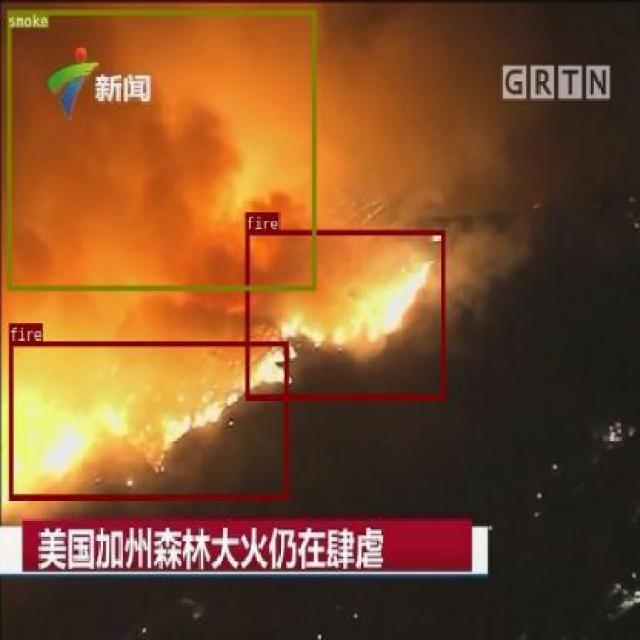Fire: (8, 340, 288, 498), (245, 230, 444, 398)
Smoke: (7, 9, 316, 289)
